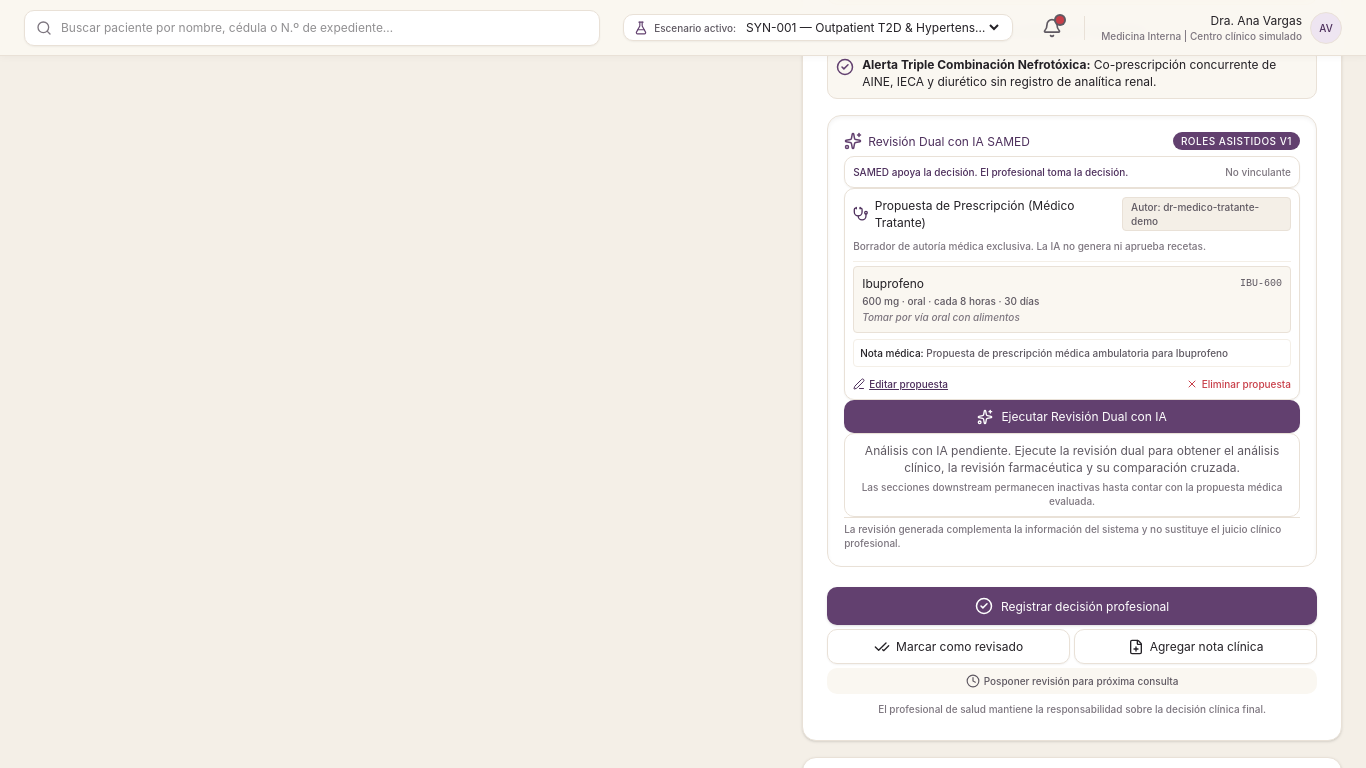
MedicationReview — SAMED Visual Baseline v1 › supports editing and saving the physician-authored PrescriptionDraft
(page scrolled)
Expected: the text "Propuesta de Prescripción (Médico Tratante)" is shown, [875,198,1074,230]
Expected: the text "Autor: dr-medico-tratante-demo" is shown, [1122,197,1291,231]
# Enter edit mode
Click the button "Editar propuesta". click: (901, 384)
box: [853,377,948,391]
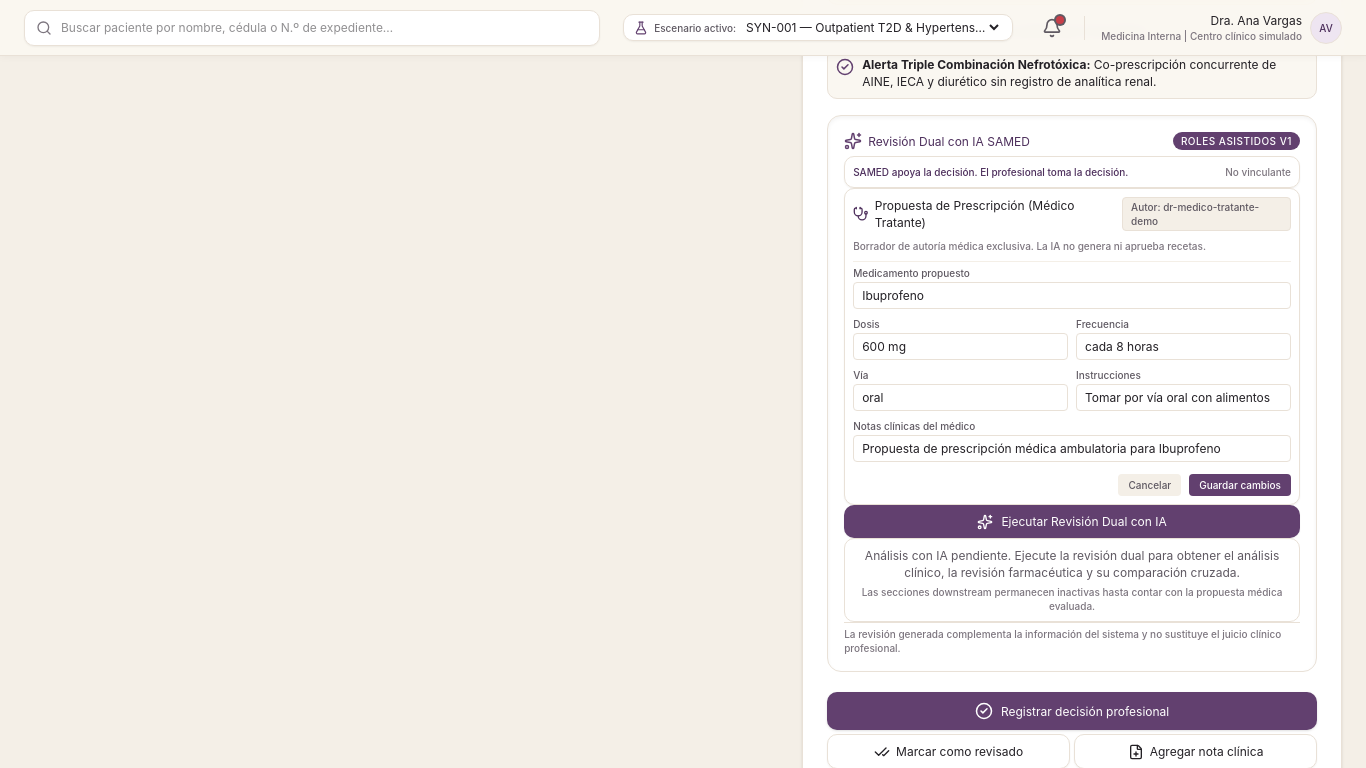
Expected: the field with placeholder "Nombre del medicamento" below "Medicamento propuesto" is shown, [853,282,1291,309]
Expected: the 2nd field with placeholder "Ej: 400 mg" is shown
# Change dosage
Replace the text in the 2nd field with placeholder "Ej: 400 mg" with "400 mg". click: (961, 346)
box: [853,333,1068,360]
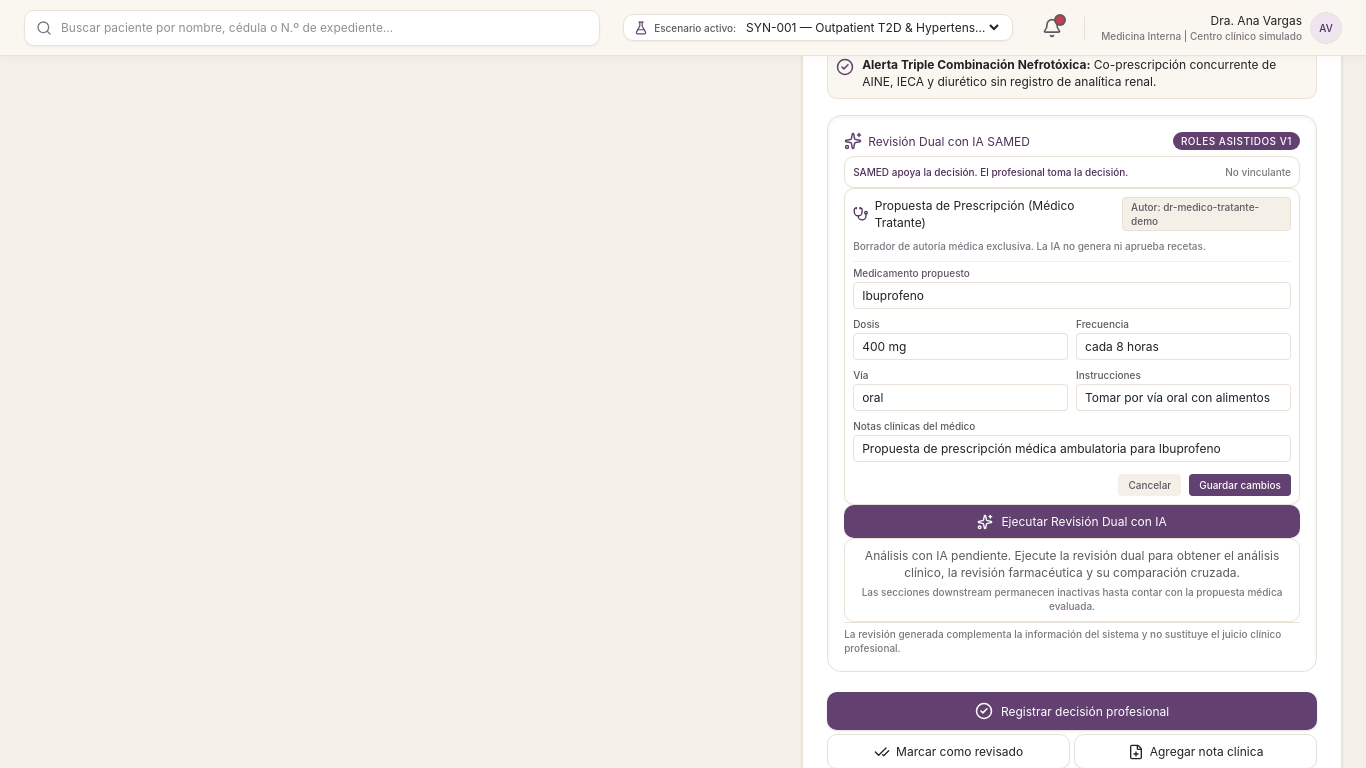
# Save changes
Click the button "Guardar cambios". click: (1240, 485)
box: [1189,474,1291,496]
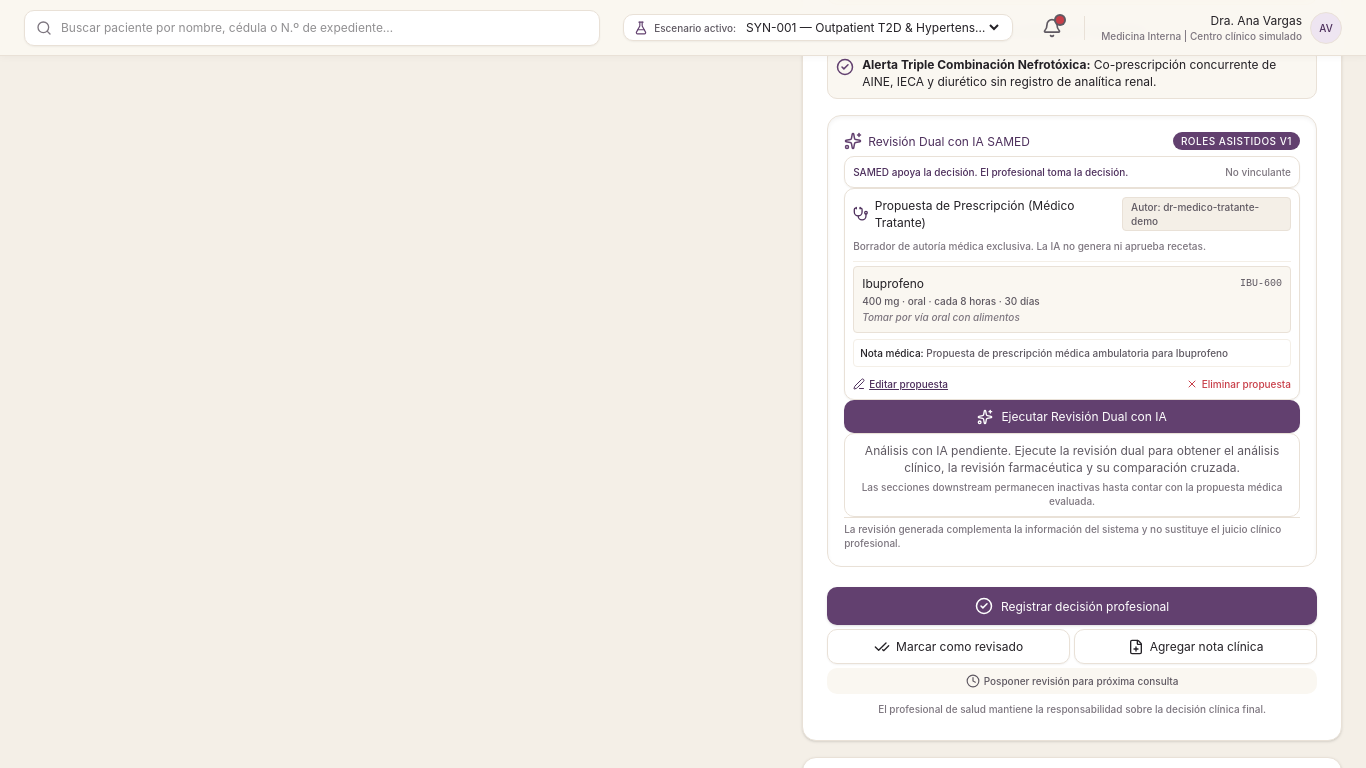
Expected: the text "Autor: dr-medico-tratante-demo" is shown, [1122,197,1291,231]
Expected: the text "400 mg · oral · cada 8 horas · 30 días" is shown, [862,295,1040,307]
